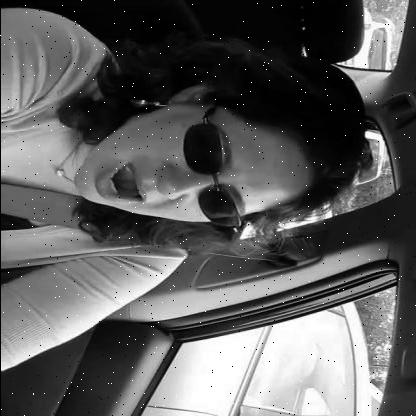seatbelt: (0, 45, 375, 285)
